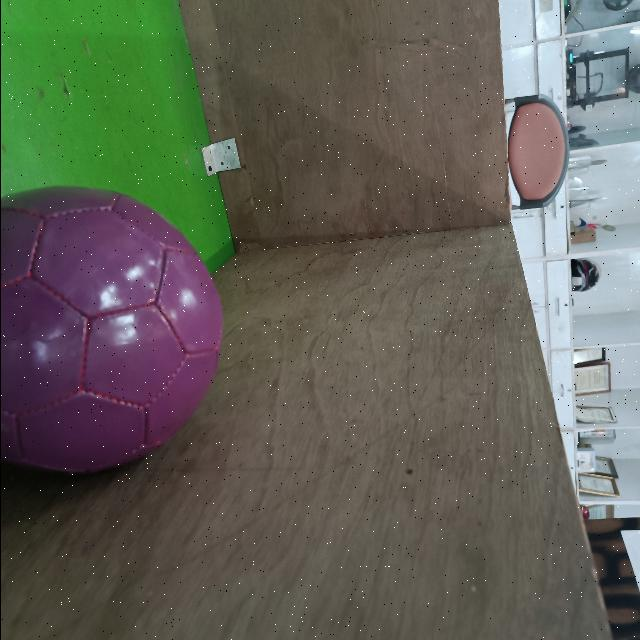P: (1, 180, 228, 480)
